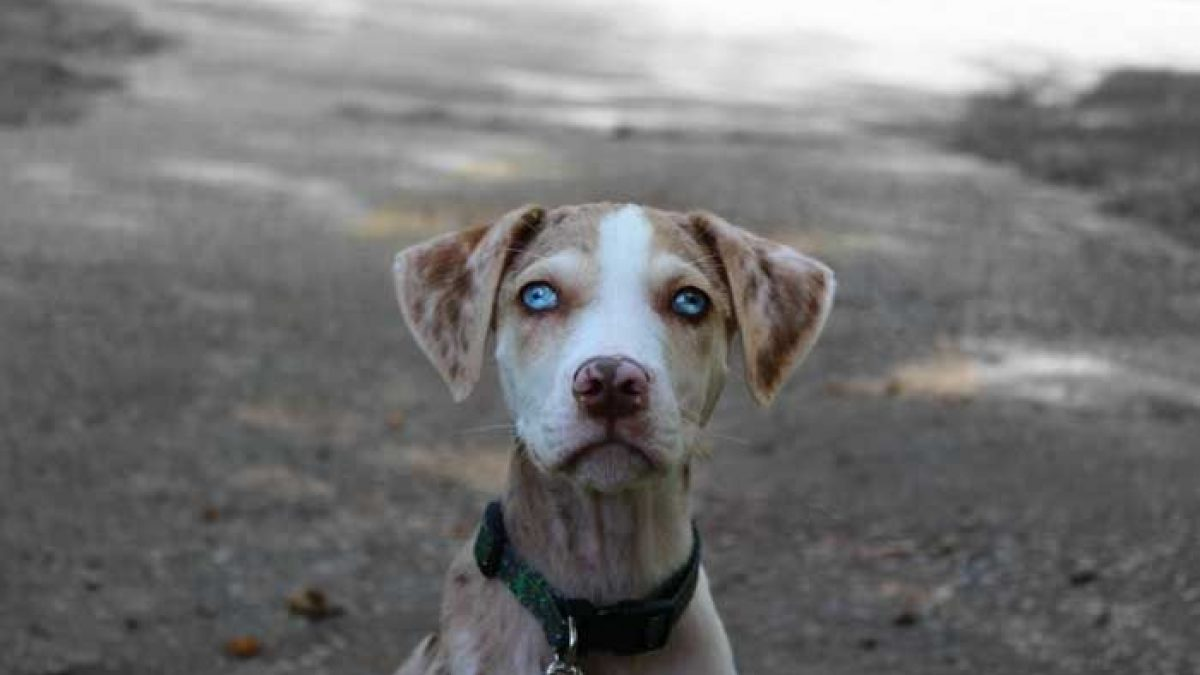dog: (387, 186, 851, 672)
